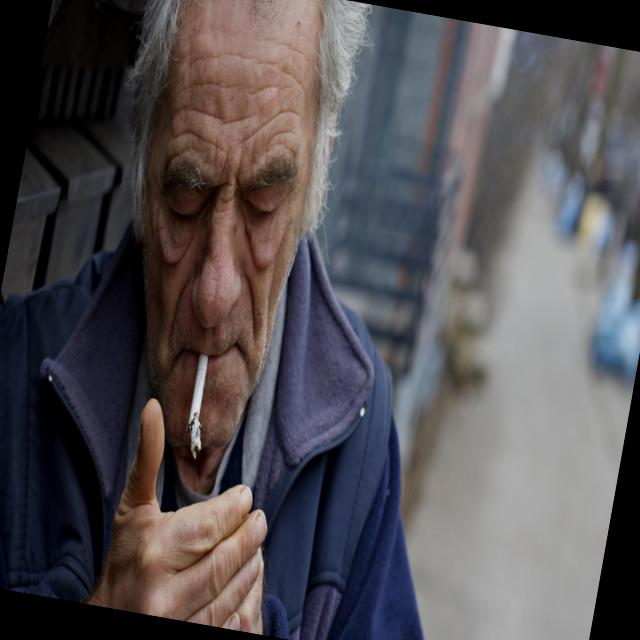smoke: (173, 349, 220, 466)
